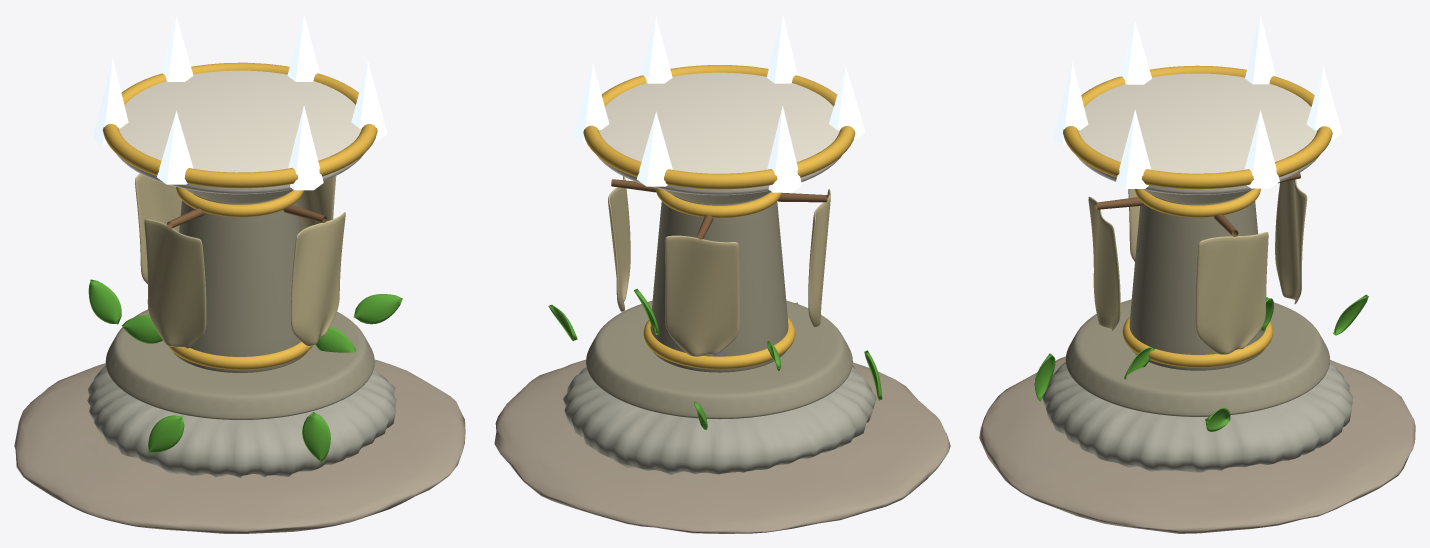
File: Gym.glb
3 views of the same model, side by side, from view 1: azimuth 30°, elevation 25°; view 2: azimuth 150°, elevation 25°; view 3: azimuth 270°, elevation 25° (orthographic).
Visible parts, largest first — view 1: Ground, Arena, Plinth, Step, Pillar, Banner2, ArenaRim, Banner3, Banner1, Band1, Band2, Cone.004 (+13 smaller); view 2: Ground, Arena, Plinth, Step, Pillar, Banner1, ArenaRim, Band1, Banner0, Banner2, Cone.002, Band2 (+6 smaller); view 3: Ground, Arena, Plinth, Step, Pillar, Banner0, ArenaRim, Banner1, Banner3, Band1, Band2, Cone.005 (+9 smaller).
Boxes of the visible parts, bbox=[...] form: Ground: bbox=[14, 359, 465, 533]; Arena: bbox=[117, 70, 362, 194]; Plinth: bbox=[87, 365, 396, 477]; Step: bbox=[105, 309, 374, 419]; Pillar: bbox=[172, 194, 307, 372]; Banner2: bbox=[144, 219, 206, 348]; ArenaRim: bbox=[102, 62, 377, 188]; Banner3: bbox=[291, 212, 345, 346]; Banner1: bbox=[135, 173, 181, 284]; Band1: bbox=[168, 342, 312, 369]; Band2: bbox=[176, 187, 303, 217]; Cone.004: bbox=[288, 105, 323, 190]; Ground: bbox=[494, 359, 950, 533]; Arena: bbox=[597, 72, 841, 195]; Plinth: bbox=[563, 365, 876, 474]; Step: bbox=[586, 300, 852, 419]; Pillar: bbox=[650, 195, 788, 372]; Banner1: bbox=[664, 235, 739, 356]; ArenaRim: bbox=[583, 65, 855, 189]; Band1: bbox=[643, 318, 795, 369]; Banner0: bbox=[608, 176, 630, 311]; Banner2: bbox=[808, 189, 830, 327]; Cone.002: bbox=[767, 106, 802, 192]; Band2: bbox=[655, 188, 781, 217]; Ground: bbox=[979, 356, 1415, 533]; Arena: bbox=[1076, 73, 1318, 194]; Plinth: bbox=[1042, 362, 1353, 472]; Step: bbox=[1065, 299, 1330, 416]; Pillar: bbox=[1129, 194, 1265, 370]; Banner0: bbox=[1195, 232, 1268, 354]; ArenaRim: bbox=[1063, 65, 1332, 189]; Banner1: bbox=[1275, 179, 1307, 304]; Banner3: bbox=[1088, 196, 1120, 330]; Band1: bbox=[1122, 316, 1272, 367]; Band2: bbox=[1135, 188, 1260, 217]; Cone.005: bbox=[1116, 109, 1151, 188].
Size of the model in its own units: 3.99 by 3.82 by 3.83.
